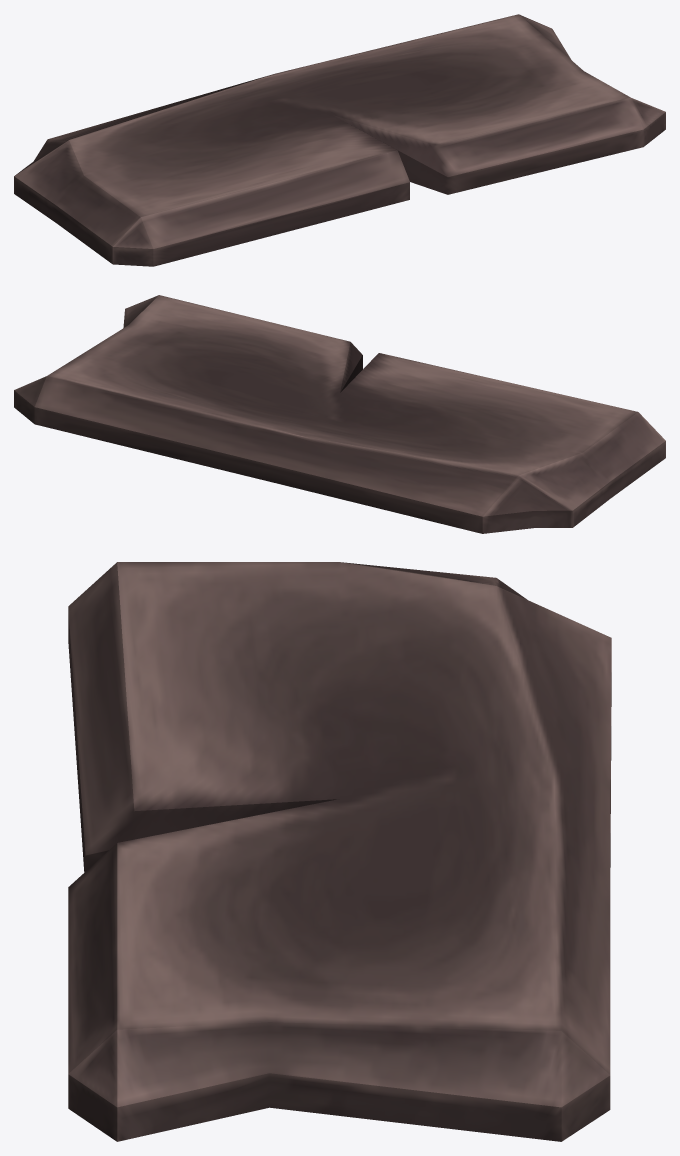
File: rock_17.fbx
The picture shows the model from 3 angles, top to bottom: view 1: azimuth 30°, elevation 25°; view 2: azimuth 150°, elevation 25°; view 3: azimuth 270°, elevation 25°; orthographic projection. The views are drawn at different scales.
Parts seen in each view (by area): view 1: rock_17; view 2: rock_17; view 3: rock_17.
Boxes of the visible parts, x1,y1,x2,y2 form: rock_17: (14,14,665,266); rock_17: (14,295,665,533); rock_17: (68,562,611,1141).
Bounding box in the file's own units: 1.82 × 0.1262 × 0.7883.
